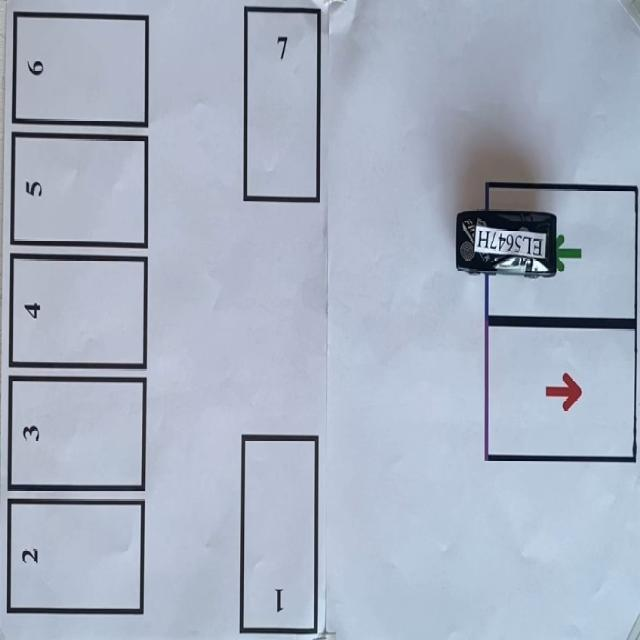car: (455, 205, 560, 282)
